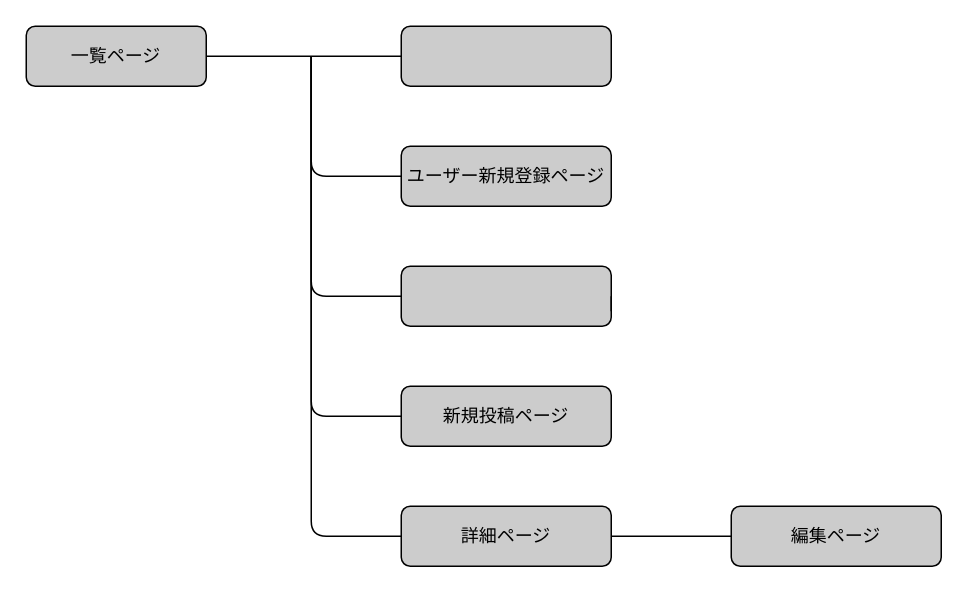
Image size: 968x593. Some labels were removed from this diagram. Each missing label, with the centre of its shape:
"ユーザーマイページ" goes at (x=505, y=295).
"ユーザーログインページ" goes at (x=505, y=55).
